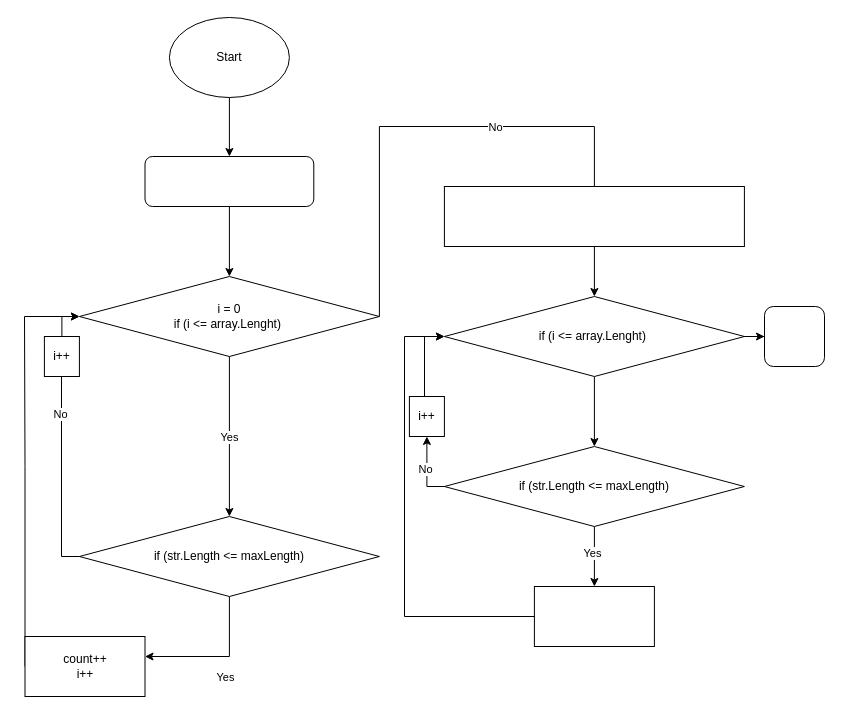
Image size: 842x714. Some labels were removed from this diagram. The box of each missing label's shape, as (x1, y1, x2, y2) in pixels:
result[index] = str index++ i++: (533, 586, 654, 646)
return result[];: (764, 306, 824, 366)
string[] array int maxLength int count = 0: (144, 156, 314, 206)
string[] result = new string[count]; int index = 0; i = 0: (443, 186, 744, 246)
